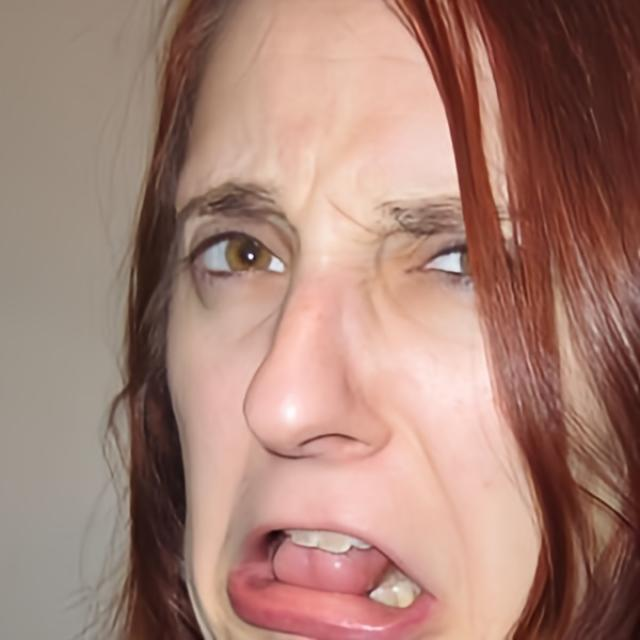disgust: (162, 0, 556, 640)
